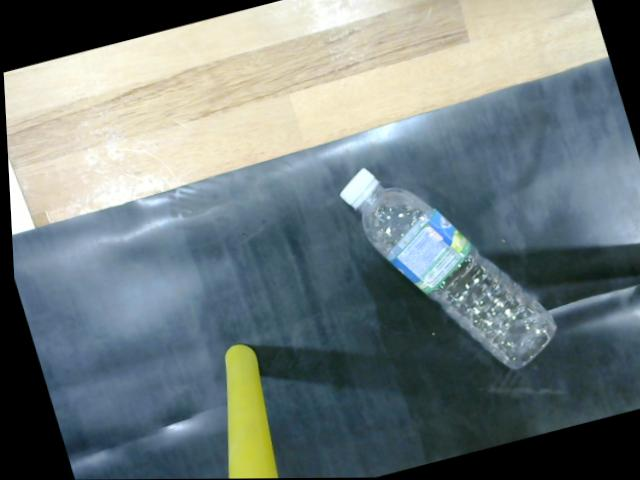bottle: (332, 164, 569, 379)
